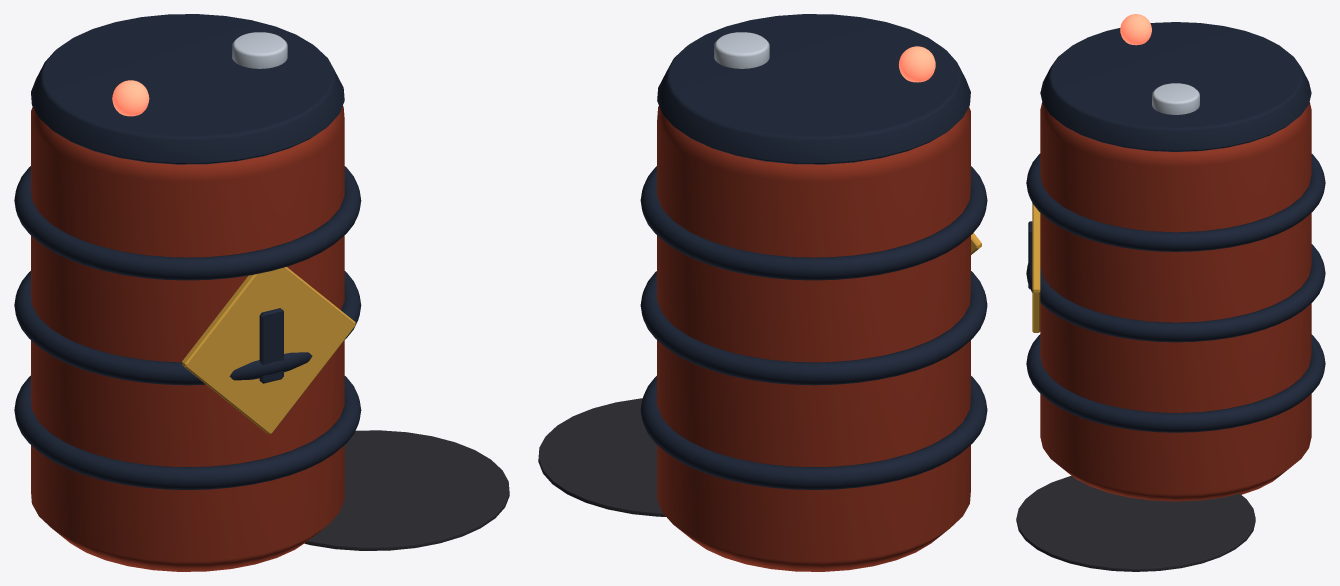
File: prop_barrel_explosive.glb
The picture shows the model from 3 angles, left to right: view 1: azimuth 30°, elevation 25°; view 2: azimuth 150°, elevation 25°; view 3: azimuth 270°, elevation 25°; orthographic projection. The views are drawn at different scales.
Parts seen in each view (by area): view 1: barrel_body, barrel_lid, barrel_leak, barrel_diamond, barrel_band0.75, barrel_band0.25, barrel_band0.5, barrel_bung, barrel_glyph, barrel_lamp; view 2: barrel_body, barrel_lid, barrel_leak, barrel_band0.75, barrel_band0.5, barrel_band0.25, barrel_bung, barrel_lamp; view 3: barrel_body, barrel_lid, barrel_leak, barrel_band0.25, barrel_band0.75, barrel_band0.5, barrel_bung, barrel_diamond, barrel_lamp.
Part boxes in pixels (x1,y1,x2,y2): barrel_body: (31, 106, 344, 571); barrel_lid: (31, 14, 344, 164); barrel_leak: (304, 430, 509, 550); barrel_diamond: (182, 267, 355, 434); barrel_band0.75: (14, 166, 361, 280); barrel_band0.25: (14, 375, 361, 489); barrel_band0.5: (14, 271, 361, 385); barrel_bung: (232, 32, 287, 68); barrel_glyph: (259, 308, 283, 383); barrel_lamp: (112, 80, 149, 116); barrel_body: (657, 106, 970, 571); barrel_lid: (657, 14, 970, 164); barrel_leak: (538, 398, 665, 516); barrel_band0.75: (640, 166, 987, 280); barrel_band0.5: (640, 271, 987, 385); barrel_band0.25: (640, 376, 987, 489); barrel_bung: (714, 32, 769, 68); barrel_lamp: (899, 46, 935, 82); barrel_body: (1040, 102, 1311, 501); barrel_lid: (1040, 22, 1311, 151); barrel_leak: (1016, 476, 1255, 571); barrel_band0.25: (1026, 334, 1325, 432); barrel_band0.75: (1026, 153, 1325, 251); barrel_band0.5: (1026, 244, 1325, 342); barrel_bung: (1152, 83, 1199, 114); barrel_diamond: (1032, 203, 1040, 332); barrel_lamp: (1120, 14, 1151, 45).
Size of the model in its own units: 1.08 by 1.12 by 0.775.
